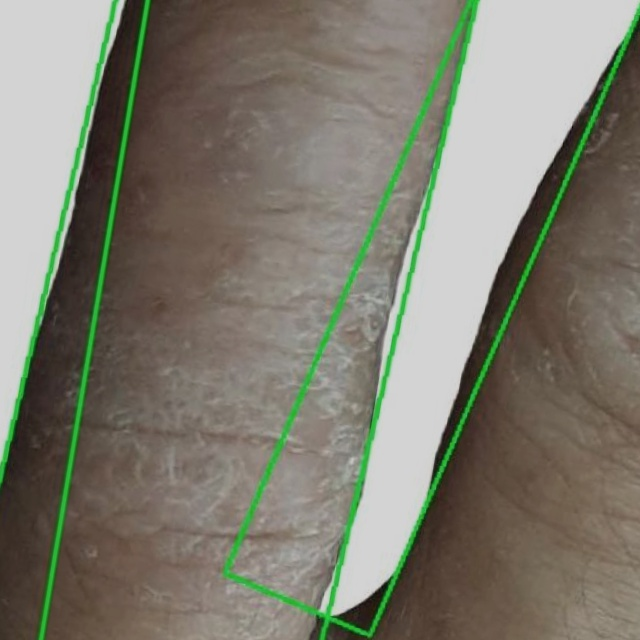Contact Dermatitis: (0, 0, 477, 639), (225, 0, 639, 635)
